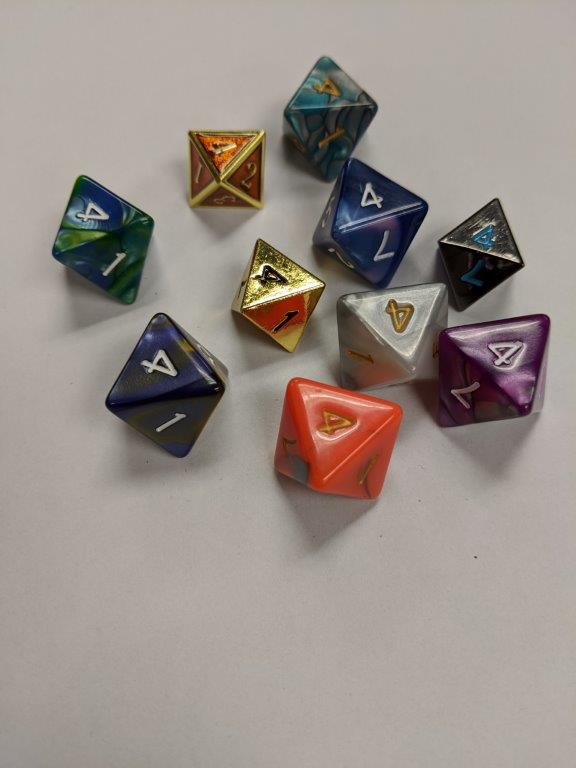d8-4: (105, 311, 231, 456), (266, 376, 404, 503), (306, 162, 433, 284), (50, 176, 153, 305), (443, 314, 554, 427), (334, 282, 447, 386), (284, 58, 379, 180), (229, 236, 324, 352), (438, 195, 525, 313), (188, 127, 264, 208)
